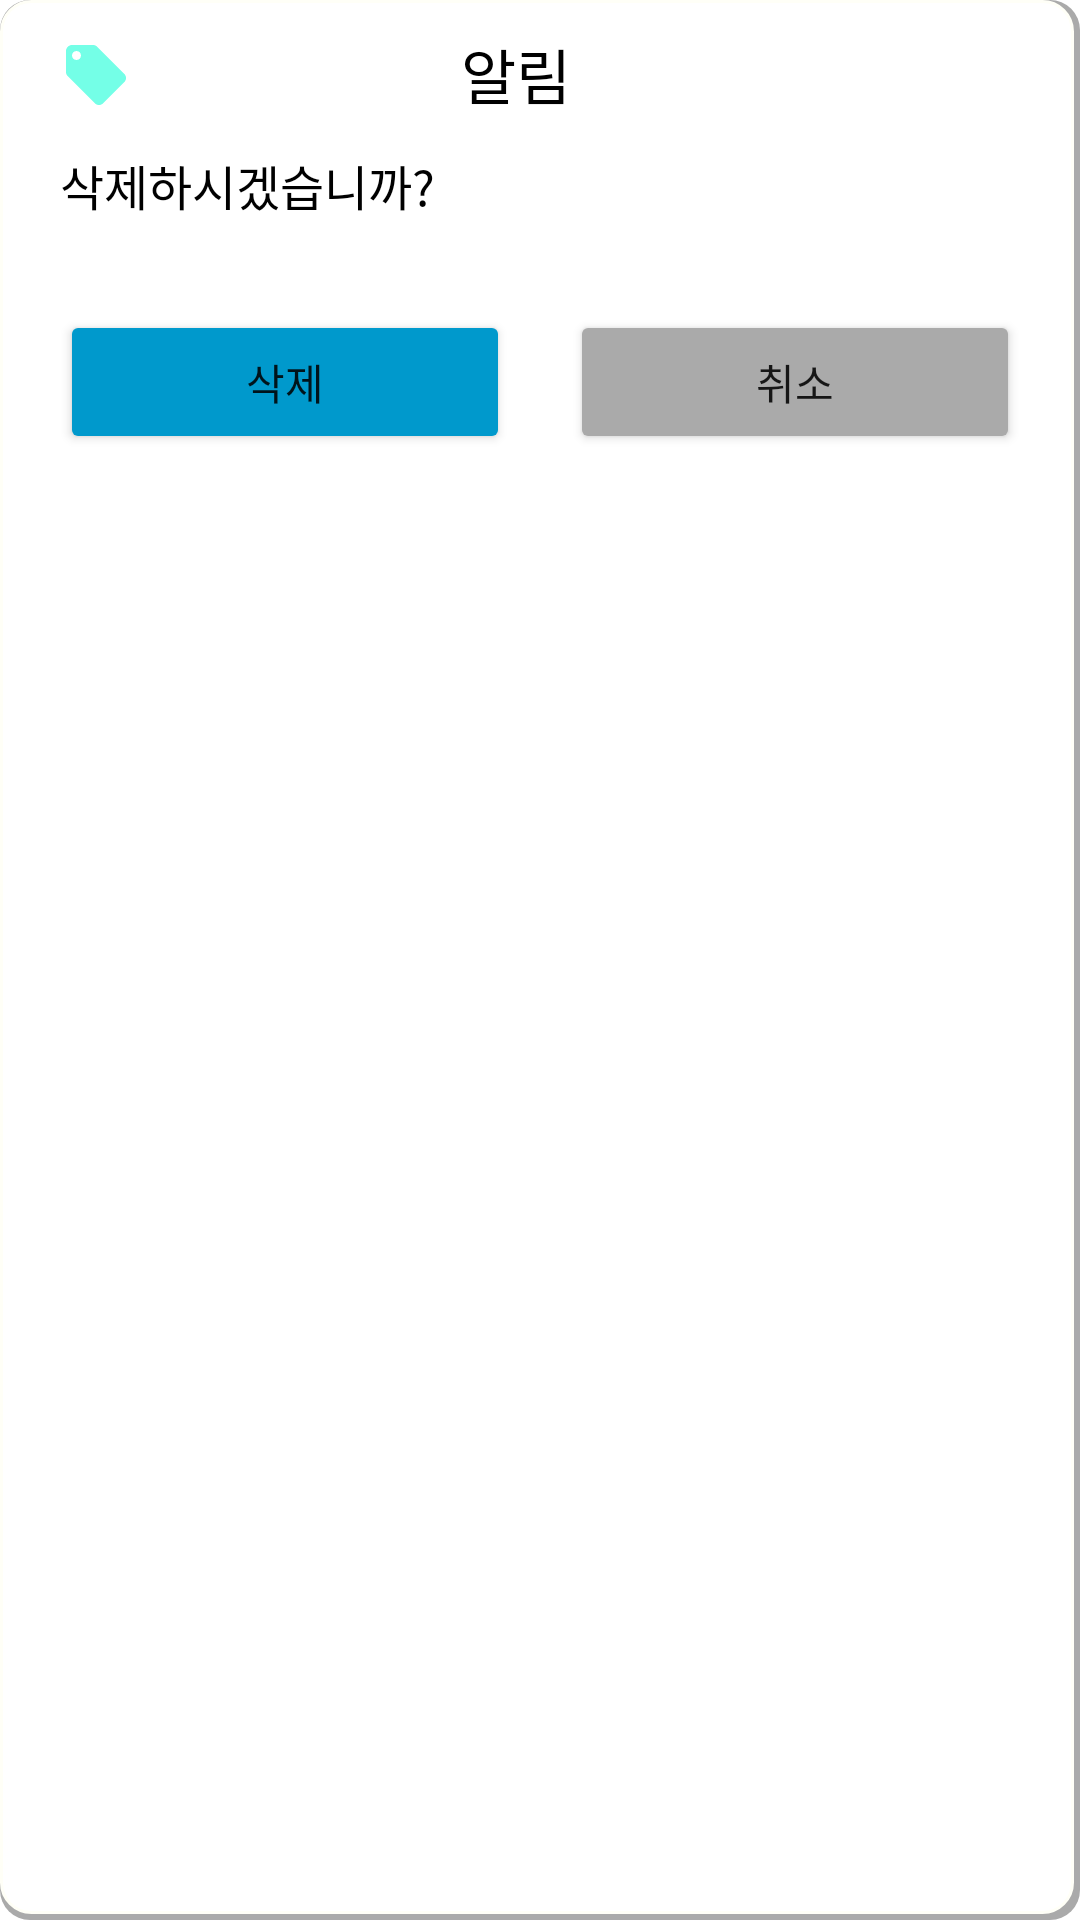

Named icons in this screenshot (1080 x 1920) and their centers, (x=x, y=y):
local offer: (x=96, y=75)
